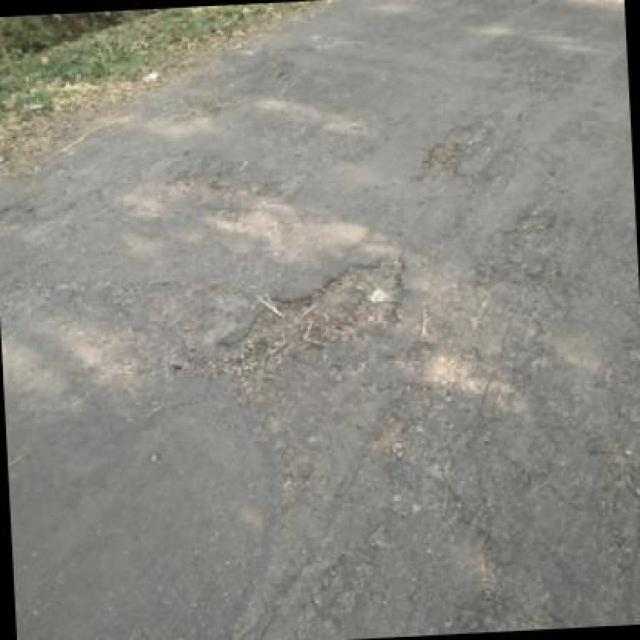pothole1: (196, 247, 412, 376), (415, 121, 491, 182), (0, 200, 37, 226)
